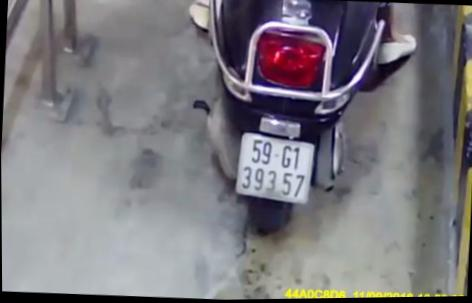LP: (233, 131, 316, 205)
